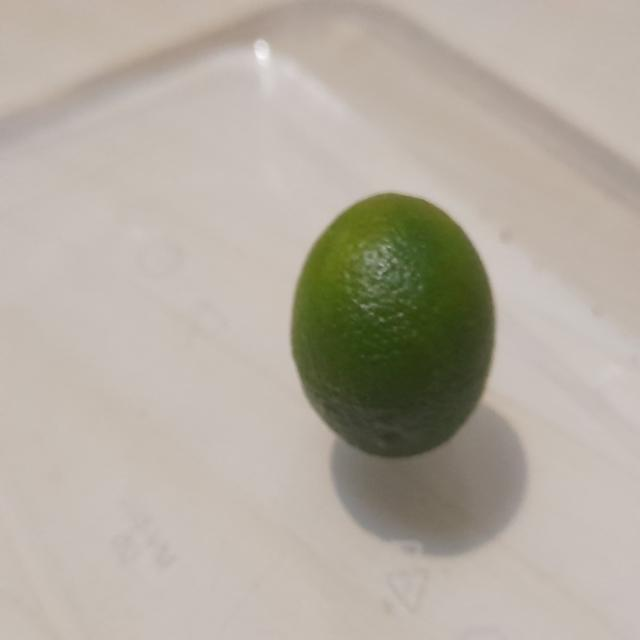heathy: (292, 187, 504, 466)
